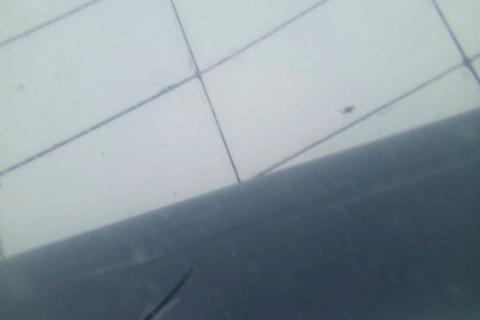keretakan: (144, 265, 194, 320)
